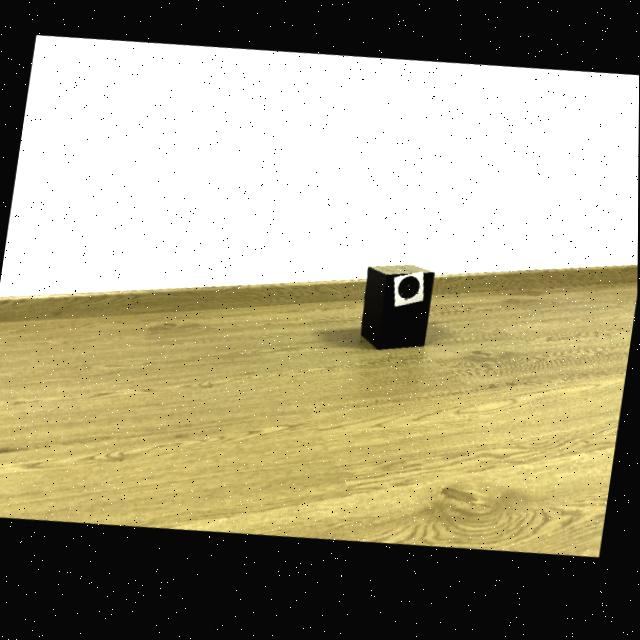CIRCLE: (398, 283, 420, 306)
